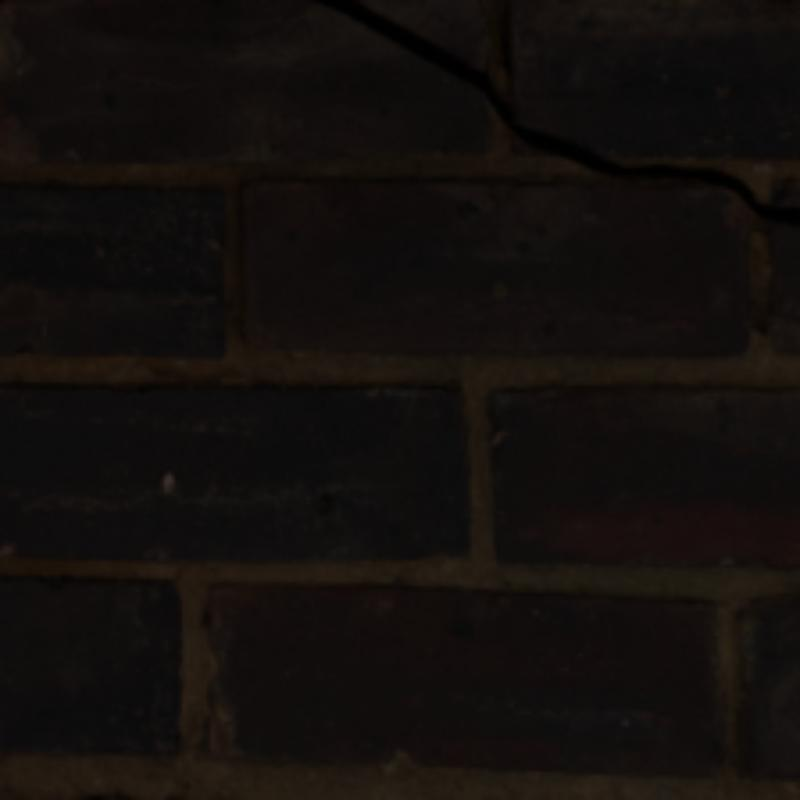pothole: (318, 0, 796, 221)
